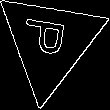P_E: (23, 21, 77, 65)
